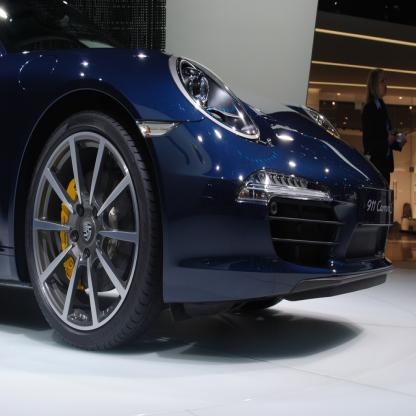Car: (1, 1, 397, 354)
